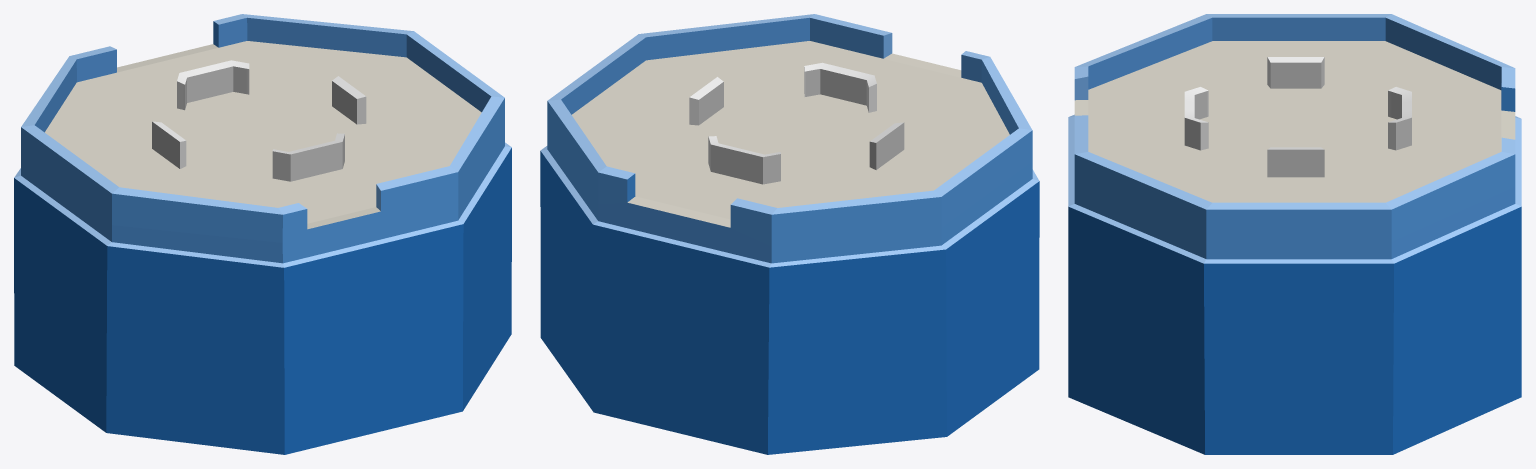
File: map2_fix.fbx
The picture shows the model from 3 angles, left to right: view 1: azimuth 30°, elevation 25°; view 2: azimuth 150°, elevation 25°; view 3: azimuth 270°, elevation 25°; orthographic projection. The views are drawn at different scales.
Parts seen in each view (by area): view 1: polySurface19, polySurface17, polySurface20, polySurface21, polySurface18; view 2: polySurface19, polySurface20, polySurface17, polySurface21, polySurface18; view 3: polySurface19, polySurface18, polySurface21, polySurface20, polySurface17.
Boxes of the visible parts, bbox=[...] form: polySurface19: bbox=[14, 14, 511, 454]; polySurface17: bbox=[177, 60, 249, 110]; polySurface20: bbox=[272, 133, 344, 181]; polySurface21: bbox=[332, 76, 366, 124]; polySurface18: bbox=[152, 121, 186, 168]; polySurface19: bbox=[540, 14, 1039, 454]; polySurface20: bbox=[804, 62, 876, 112]; polySurface17: bbox=[708, 136, 780, 184]; polySurface21: bbox=[689, 77, 723, 125]; polySurface18: bbox=[869, 122, 904, 169]; polySurface19: bbox=[1068, 14, 1521, 454]; polySurface18: bbox=[1267, 57, 1324, 88]; polySurface21: bbox=[1267, 147, 1324, 177]; polySurface20: bbox=[1184, 87, 1208, 150]; polySurface17: bbox=[1388, 87, 1411, 150].
Size of the model in its own units: 36.36 by 20.85 by 34.54.
